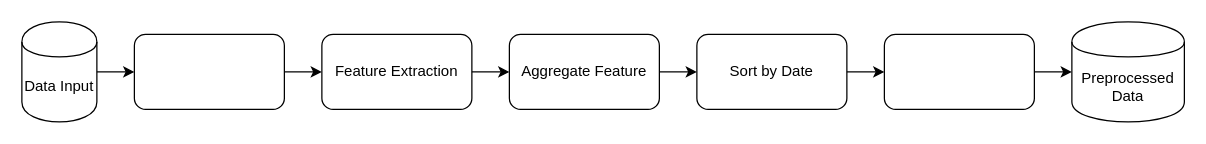
Some shapes in this 1206 by 144 pixel diagram are drawn without their labels. Here are the shapes that lost their labels. From the top down, the centre of each, then its label:
At (x=208, y=71): "Filter unused data".
At (x=958, y=71): "Standarization".
